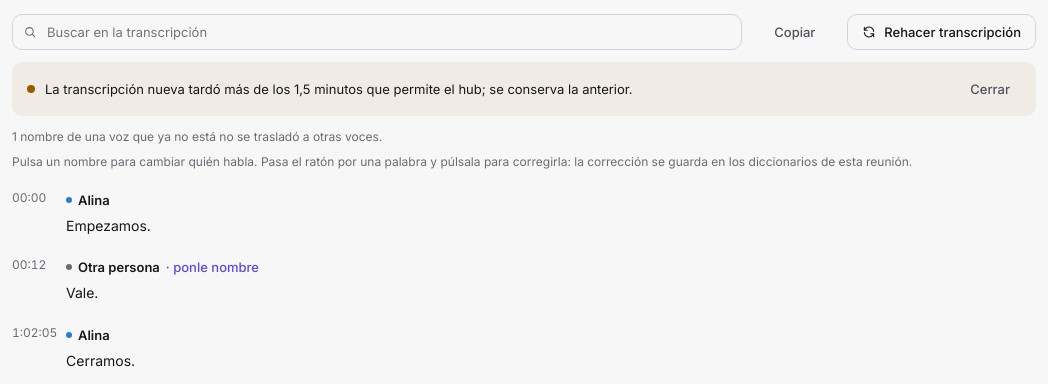
Test case: «Rehacer transcripción» (annex, change 7) › explains failure final_pass_timeout with budget 90000 in the card, keeping the old transcript
Expected: the text "La transcripción nueva tardó más de los 1,5 minutos que permite el hub; se conserva la anterior." is shown, [45,81,633,97]
Expected: the text "1 nombre de una voz que ya no está no se trasladó a otras voces." is shown, [12,129,382,144]
Click the button "Cerrar".
click(990, 89)  # box [959,75,1021,103]
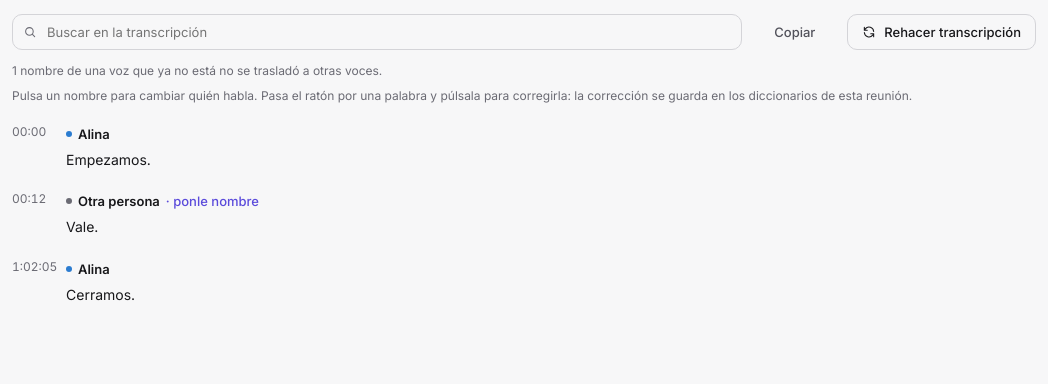
Expected: the text "Empezamos." is shown, [66,151,151,168]
Now the text "La transcripción nueva tardó más de los 1,5 minutos que permite el hub; se conserva la anterior." is gone
